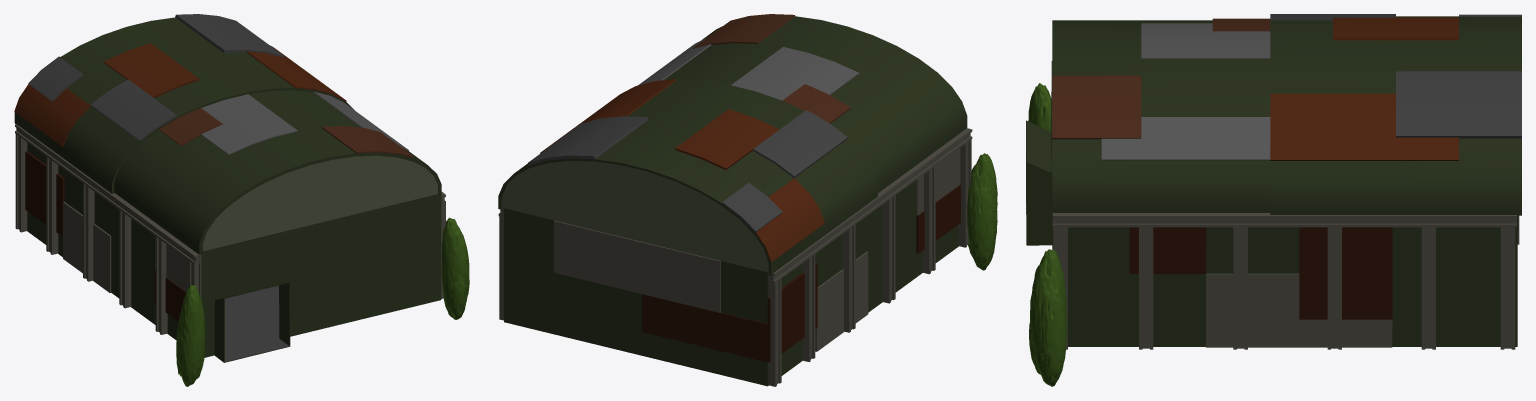
Rendered from hangar.glb.
The picture shows the model from 3 angles, left to right: view 1: azimuth 30°, elevation 25°; view 2: azimuth 150°, elevation 25°; view 3: azimuth 270°, elevation 25°; orthographic projection. The views are drawn at different scales.
Visible parts, largest first — view 1: removable wall.001, removable wall.002, removable wall.003, Icosphere.001; view 2: removable wall.001, removable wall.003, removable wall.002, Icosphere.001; view 3: removable wall.001, removable wall.003, removable wall.002, Icosphere.001.
Part boxes in pixels (x1,y1,x2,y2): removable wall.001: (15, 41, 445, 362); removable wall.002: (114, 90, 441, 254); removable wall.003: (14, 14, 353, 193); Icosphere.001: (176, 217, 469, 386); removable wall.001: (498, 128, 972, 386); removable wall.003: (498, 79, 877, 275); removable wall.002: (638, 14, 967, 192); Icosphere.001: (967, 153, 997, 270); removable wall.001: (1026, 17, 1519, 349); removable wall.003: (1270, 14, 1521, 215); removable wall.002: (1052, 18, 1270, 213); Icosphere.001: (1028, 83, 1067, 386).
Bounding box in the file's own units: 10.58 × 6.89 × 12.1.
